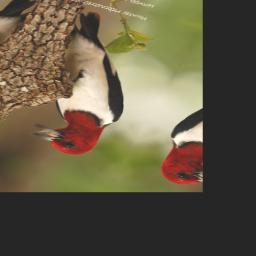Woodpecker: (9, 9, 170, 162)
